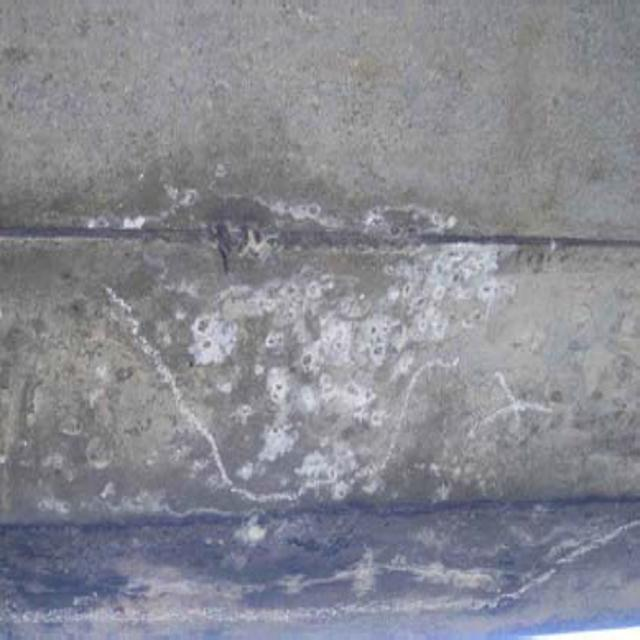freelime: (124, 223, 557, 603)
